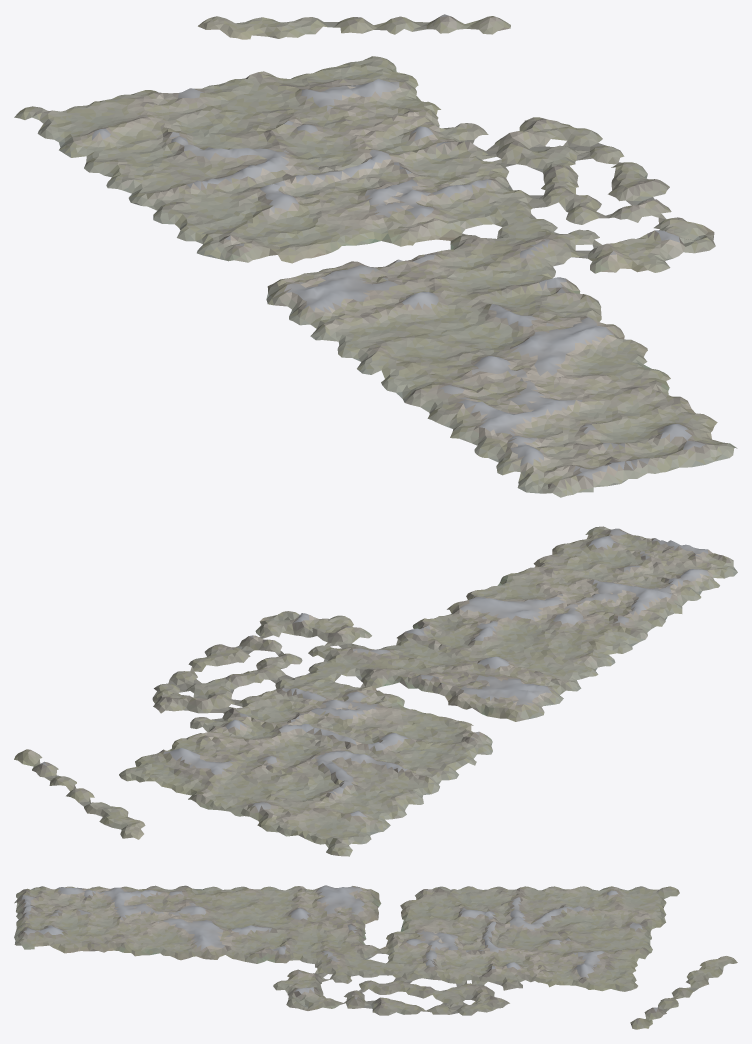
File: range_qingzang_plateau.glb
3 renders of one model, top to bottom at view 1: azimuth 30°, elevation 25°; view 2: azimuth 150°, elevation 25°; view 3: azimuth 270°, elevation 25°, orthographic. The views are drawn at different scales.
Parts seen in each view (by area): view 1: range_qingzang_plateau; view 2: range_qingzang_plateau; view 3: range_qingzang_plateau.
Part boxes in pixels (x1,y1,x2,y2): range_qingzang_plateau: (14,14,737,497); range_qingzang_plateau: (14,526,737,856); range_qingzang_plateau: (14,885,737,1029).
Bounding box in the file's own units: 640 × 26.55 × 1370.
